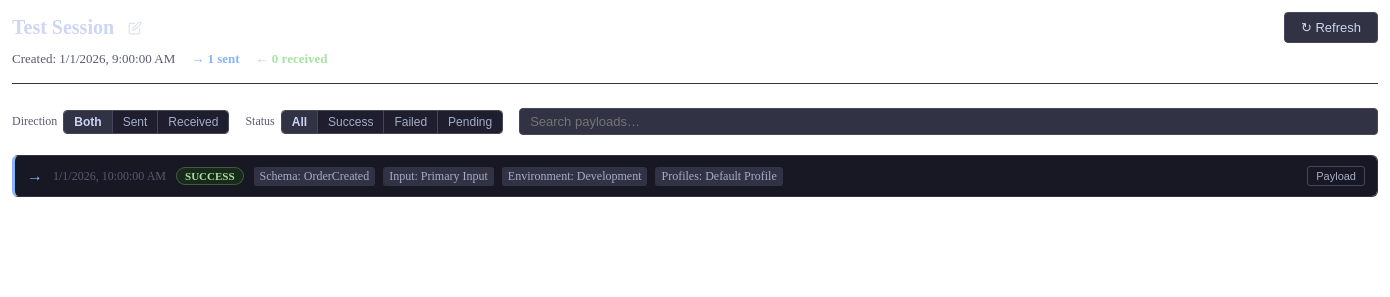
Scenario: SessionView component › expands payload on toggle button click
Step 1. Click the button with test id "toggle-payload-evt-sent-1" → (1336, 176), box [1307, 166, 1365, 186]
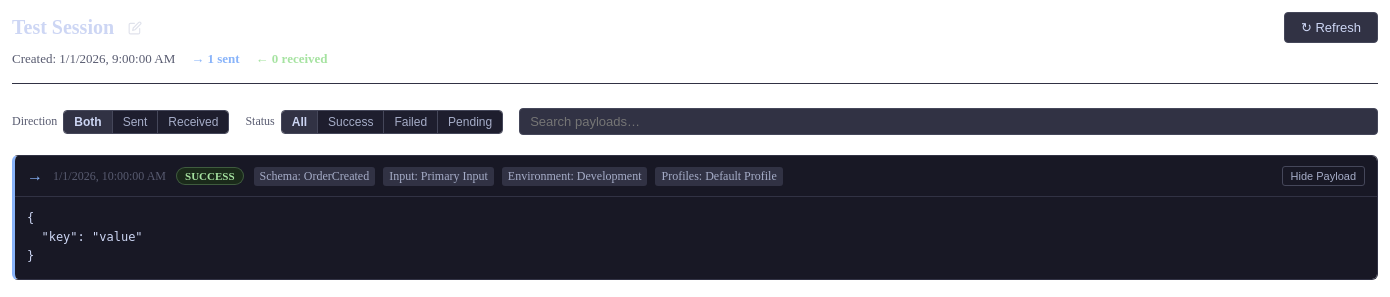
Result: the element with test id "event-payload-evt-sent-1" is shown at [15, 196, 1377, 279]
Result: the element with test id "event-payload-evt-sent-1" shows "\"key\"" at [27, 211, 143, 263]
